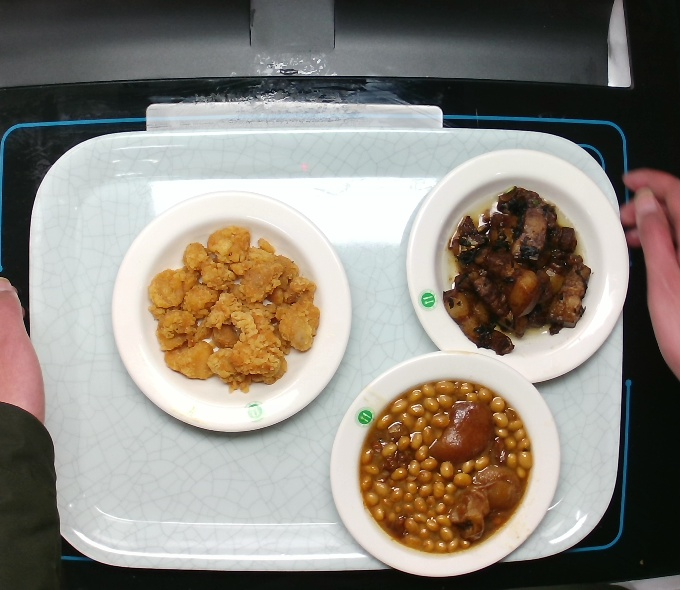wcq-GanCaiRou: (434, 179, 593, 361)
wcq-HuangDouZhuJiao: (351, 371, 540, 564)
wcq-JiMiHua: (141, 219, 332, 401)
